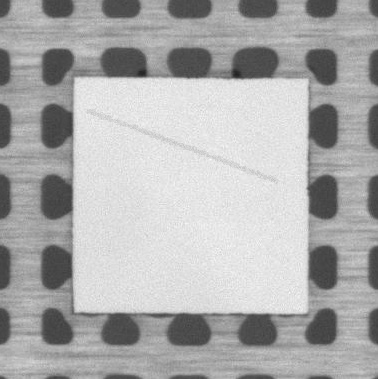DIE_CRACK: (89, 111, 276, 181)
